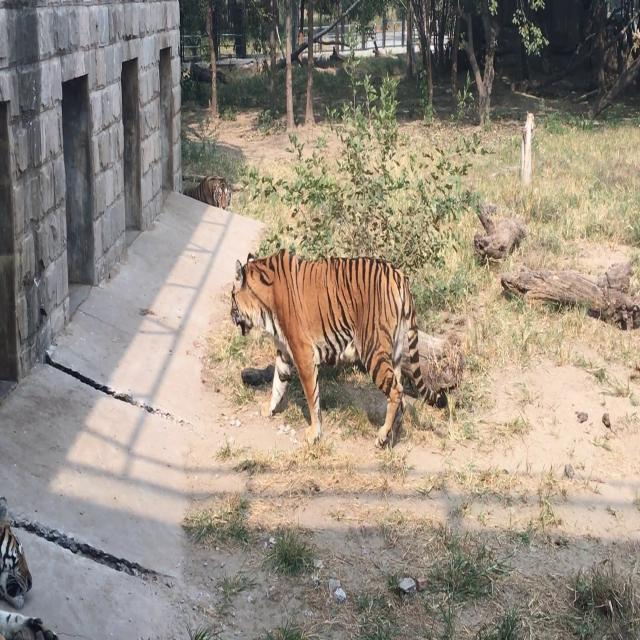Tiger: (215, 222, 461, 458), (182, 164, 238, 216)
